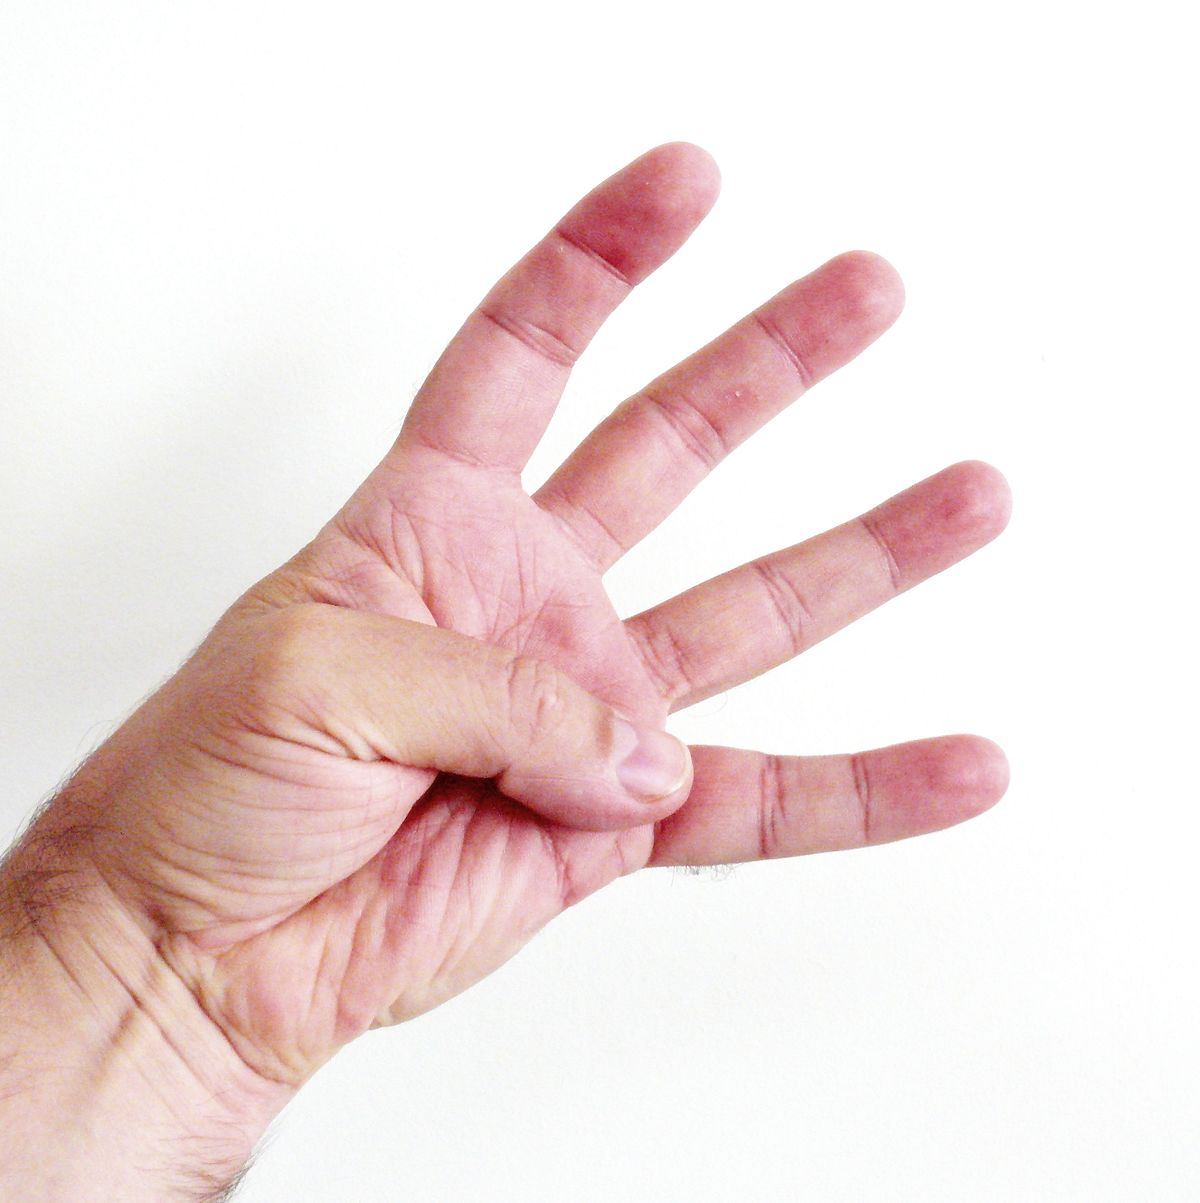finger: (420, 109, 731, 506), (615, 447, 1030, 708), (615, 235, 905, 591), (688, 738, 1058, 858)
